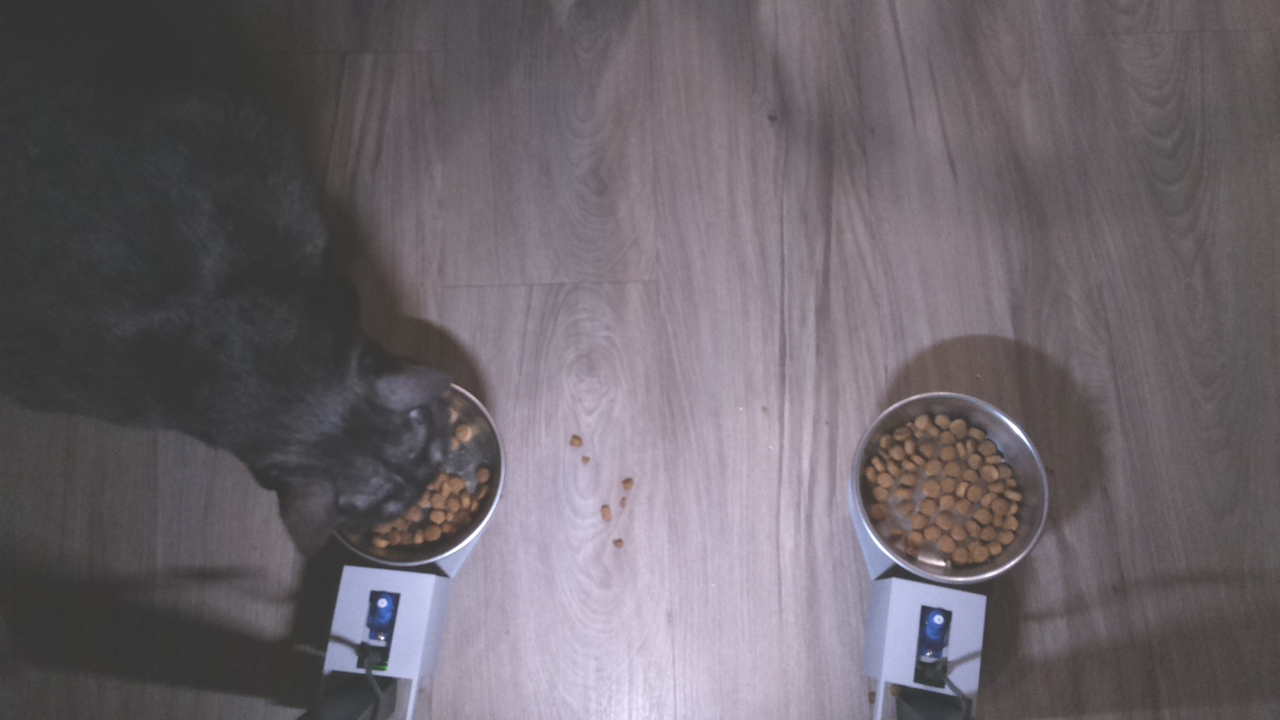open_bowl: (845, 385, 1051, 587)
saki_eating: (245, 312, 506, 575)
